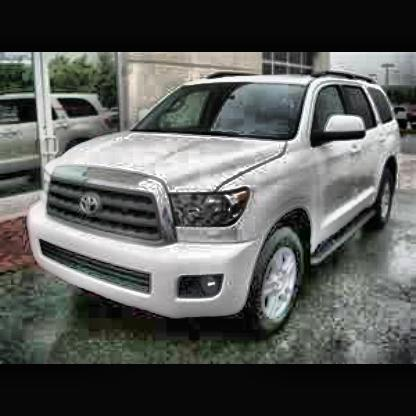Toyota Sequoia SUV 2012: (31, 71, 401, 330)
